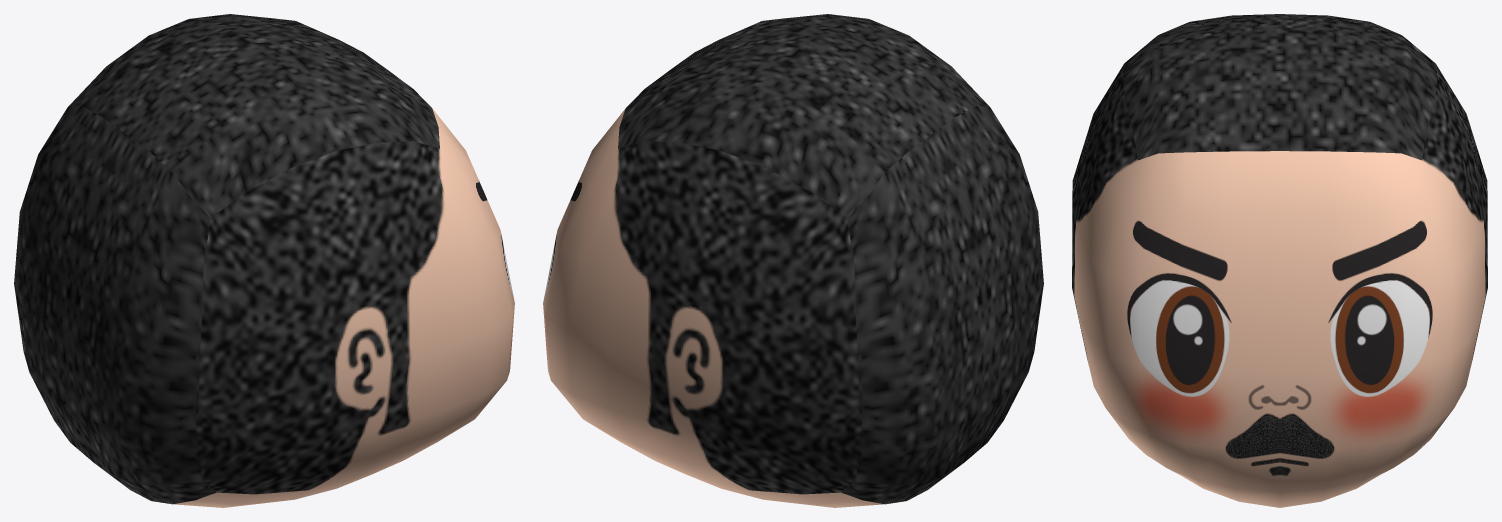
Rendered from koloHead.fbx.
3 renders of one model, left to right at view 1: azimuth 30°, elevation 25°; view 2: azimuth 150°, elevation 25°; view 3: azimuth 270°, elevation 25°, orthographic. The views are drawn at different scales.
Parts seen in each view (by area): view 1: polySurface1; view 2: polySurface1; view 3: polySurface1.
Boxes of the visible parts, <box> form: polySurface1: <box>14,14,514,507</box>; polySurface1: <box>543,14,1043,507</box>; polySurface1: <box>1072,14,1487,507</box>.
Bounding box in the file's own units: 154 × 164 × 147.
